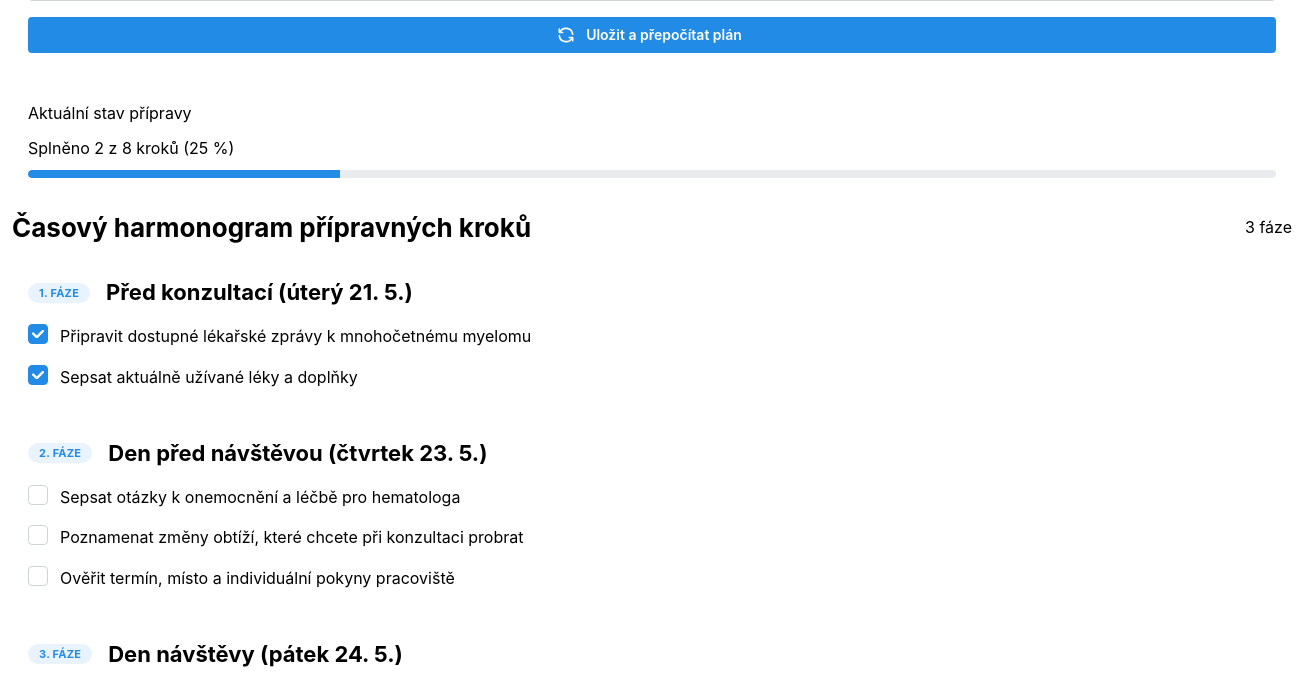
Test: preparation page › starts with two of eight steps and updates progress in both directions
(page scrolled)
Expected: the text "Splněno 2 z 8 kroků (25 %)" is shown, [28, 138, 234, 158]
Click the checkbox labelled "Připravit dostupné lékařské zprávy k mnohočetnému myelomu". click: point(38, 334)
box: [28, 324, 48, 344]
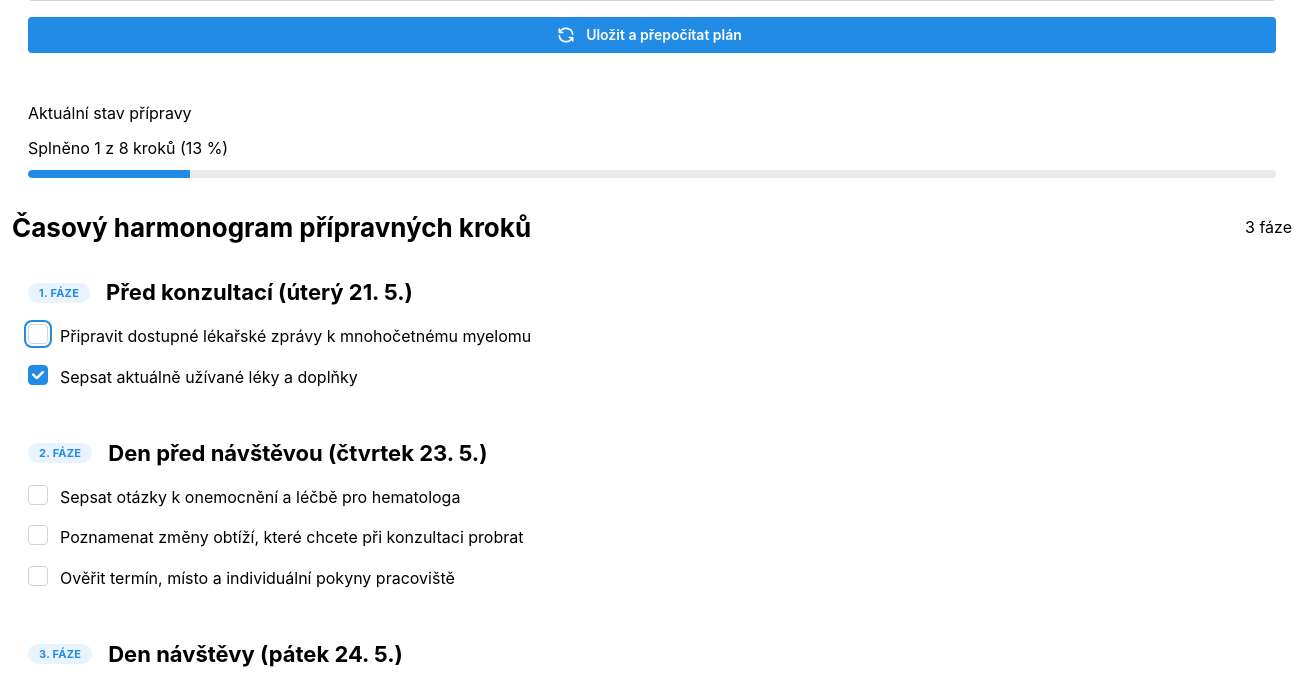
Result: the text "Splněno 1 z 8 kroků (13 %)" is shown at [28, 138, 228, 158]
Click the checkbox labelled "Připravit dostupné lékařské zprávy k mnohočetnému myelomu". click: point(38, 334)
box: [28, 324, 48, 344]
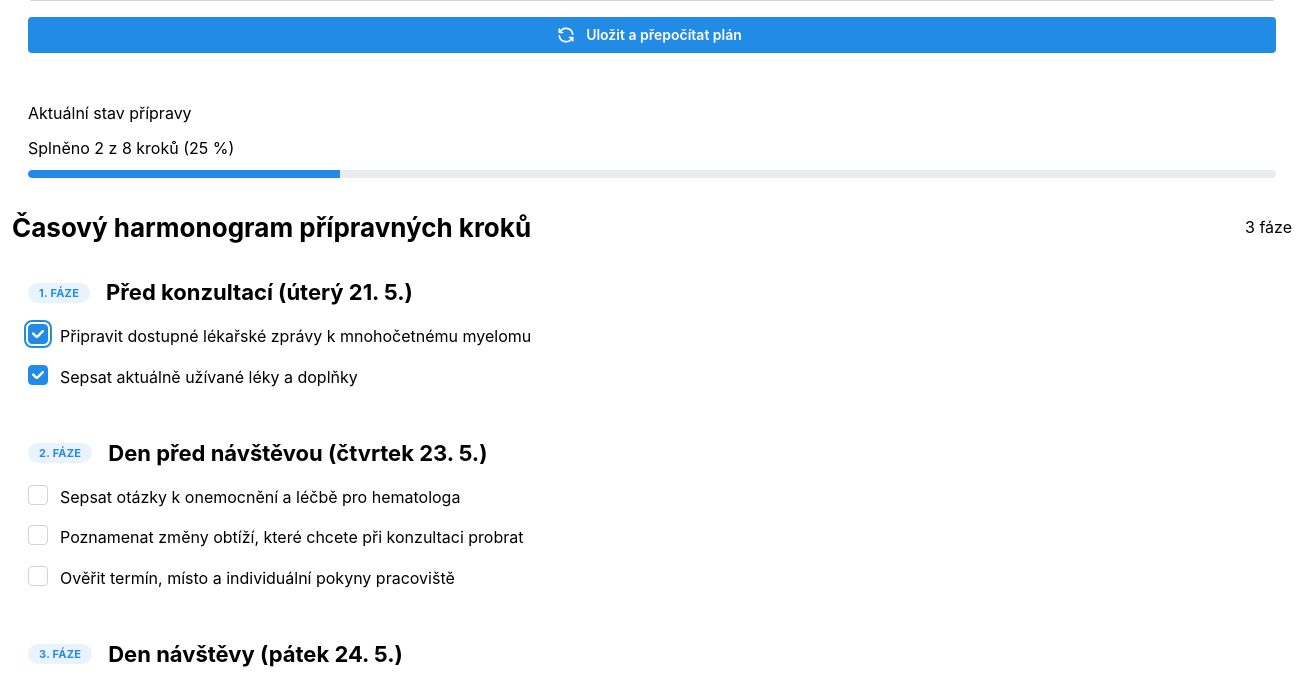
Result: the text "Splněno 2 z 8 kroků (25 %)" is shown at [28, 138, 234, 158]
